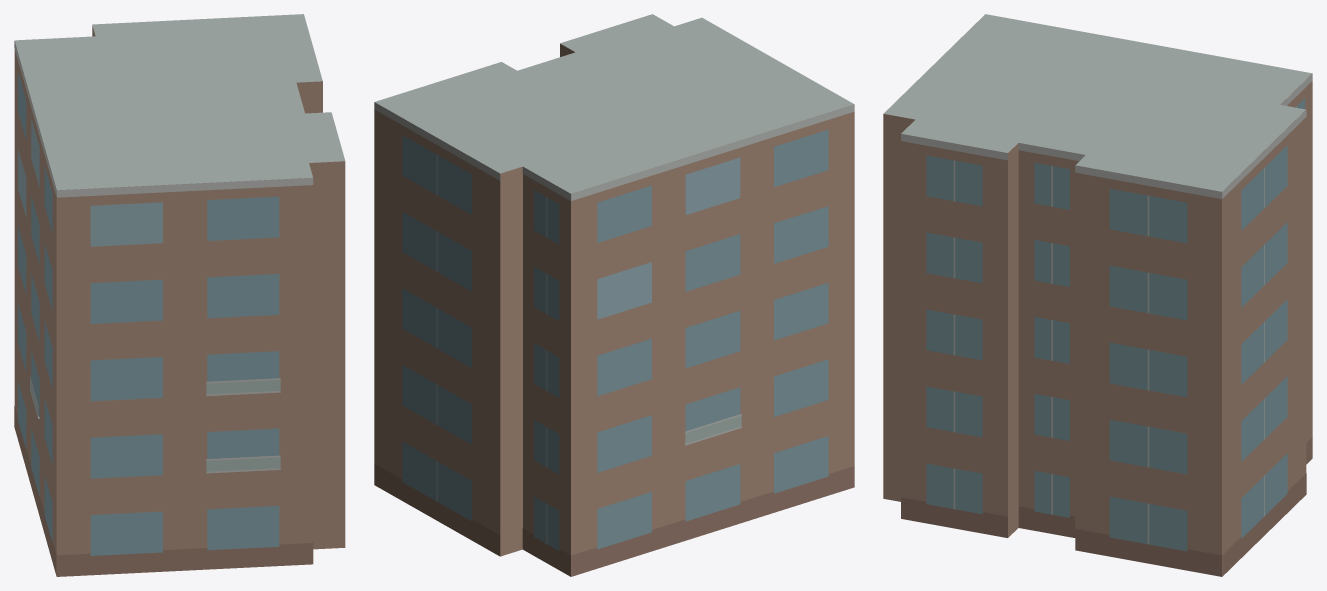
The model's file is survey-upis-32609779.glb.
3 renders of one model, left to right at view 1: azimuth 30°, elevation 25°; view 2: azimuth 150°, elevation 25°; view 3: azimuth 270°, elevation 25°, orthographic.
Visible parts, largest first — view 1: survey-upis-32609779.tmp; view 2: survey-upis-32609779.tmp; view 3: survey-upis-32609779.tmp.
Part boxes in pixels (x1,y1,x2,y2): survey-upis-32609779.tmp: (14,14,345,576); survey-upis-32609779.tmp: (374,14,854,576); survey-upis-32609779.tmp: (883,14,1312,576).
Bounding box in the file's own units: 12.69 × 12.8 × 12.94.
